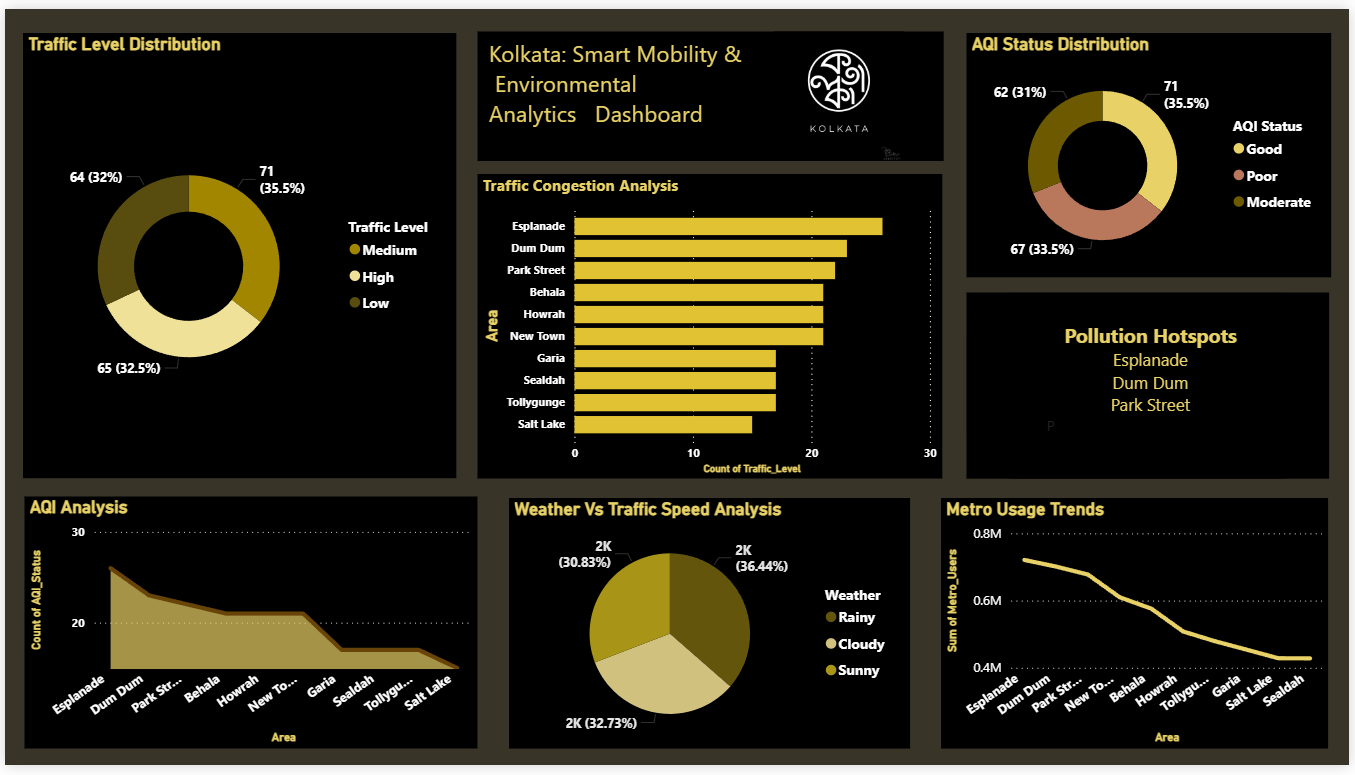

The page's visual inventory and layout, read from the dashboard file:
{"tool":"powerbi","page":{"name":"Page 1","canvas":[1280,720],"ordinal":0},"visuals":[{"type":"clusteredBarChart","title":"Traffic Congestion Analysis","fields":{"Category":["Sheet1.Area"],"Y":["CountNonNull(Sheet1.Traffic_Level)"]},"box":[450,157.1,442.9,272.9],"z":0},{"type":"areaChart","title":"AQI   Analysis","fields":{"Category":["Sheet1.Area"],"Y":["CountNonNull(Sheet1.AQI_Status)"]},"box":[18.6,464.3,431.4,240],"z":1000},{"type":"lineChart","title":"Metro Usage Trends","fields":{"Category":["Sheet1.Area"],"Y":["Sum(Sheet1.Metro_Users)"]},"box":[891.7,465,368.3,238.3],"z":2000},{"type":"pieChart","title":"Weather Vs Traffic Speed Analysis","fields":{"Y":["Sum(Sheet1.Average_Traffic_Speed)"],"Category":["Sheet1.Weather"]},"box":[480,465,381.7,238.3],"z":3000},{"type":"donutChart","title":"Traffic Level Distribution","fields":{"Category":["Sheet1.Traffic_Level"],"Y":["CountNonNull(Sheet1.Traffic_Level)"]},"box":[17.1,22.9,412.9,424.3],"z":4000},{"type":"shape","box":[915,270,345,177.5],"z":5000},{"type":"textbox","box":[987.5,292.5,207.5,137.5],"z":6000},{"type":"donutChart","title":"AQI Status Distribution","fields":{"Category":["Sheet1.AQI_Status"],"Y":["CountNonNull(Sheet1.AQI_Status)"]},"box":[915,22.5,347.5,232.5],"z":7000},{"type":"textbox","box":[449.5,22.1,444.2,123.2],"z":8000},{"type":"image","box":[708.4,22.1,171.6,123.2],"z":9000}]}

Visuals, with their boxes in screenshot pixels (x1, y1, x2, y2), scaled from the page's 1280x720 canvas onto the 1355x775 screenshot:
"Traffic Congestion Analysis" clusteredBarChart: select_region(476, 169, 945, 463)
"AQI   Analysis" areaChart: select_region(20, 500, 476, 758)
"Metro Usage Trends" lineChart: select_region(944, 501, 1334, 757)
"Weather Vs Traffic Speed Analysis" pieChart: select_region(508, 501, 912, 757)
"Traffic Level Distribution" donutChart: select_region(18, 25, 455, 481)
shape: select_region(969, 291, 1334, 482)
textbox: select_region(1045, 315, 1265, 463)
"AQI Status Distribution" donutChart: select_region(969, 24, 1336, 274)
textbox: select_region(476, 24, 946, 156)
image: select_region(750, 24, 932, 156)
